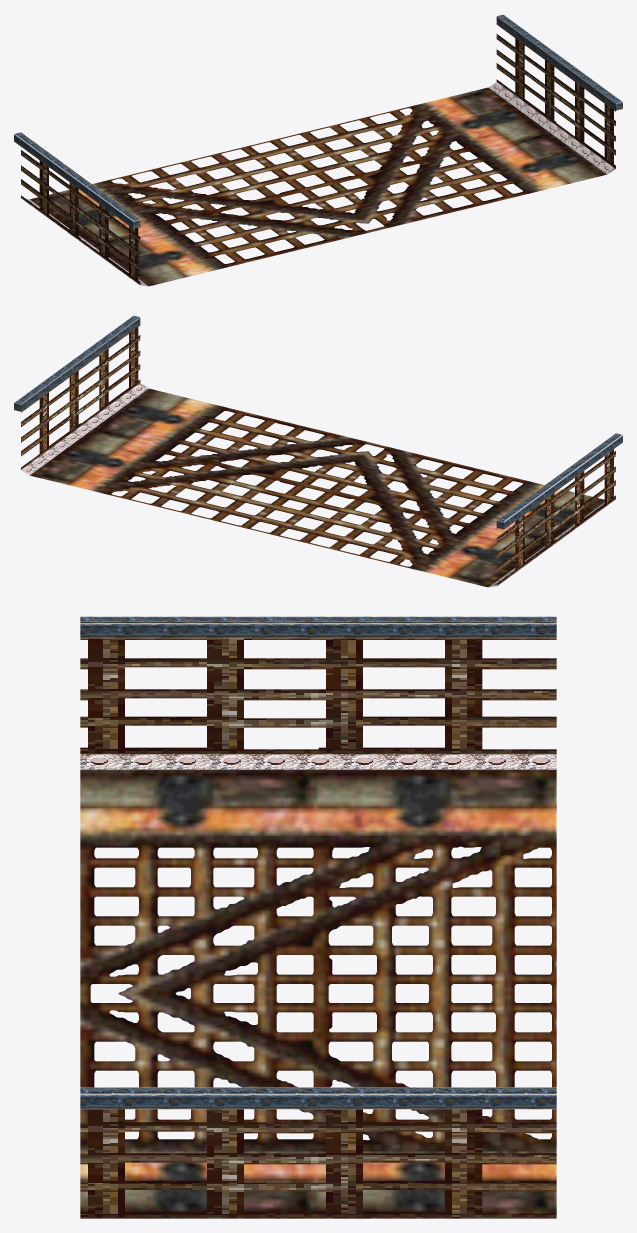
File: WindyValleyBridgeSubdivided.dae
3 renders of one model, top to bottom at view 1: azimuth 30°, elevation 25°; view 2: azimuth 150°, elevation 25°; view 3: azimuth 270°, elevation 25°, orthographic. The views are drawn at different scales.
Parts seen in each view (by area): view 1: Plane; view 2: Plane; view 3: Plane.
Boxes of the visible parts, x1,y1,x2,y2 form: Plane: (14,14,622,286); Plane: (14,315,622,587); Plane: (80,616,556,1218).
Bounding box in the file's own units: 2.05 × 0.8631 × 0.2766.
Materials: 4 (4 with a texture image).
